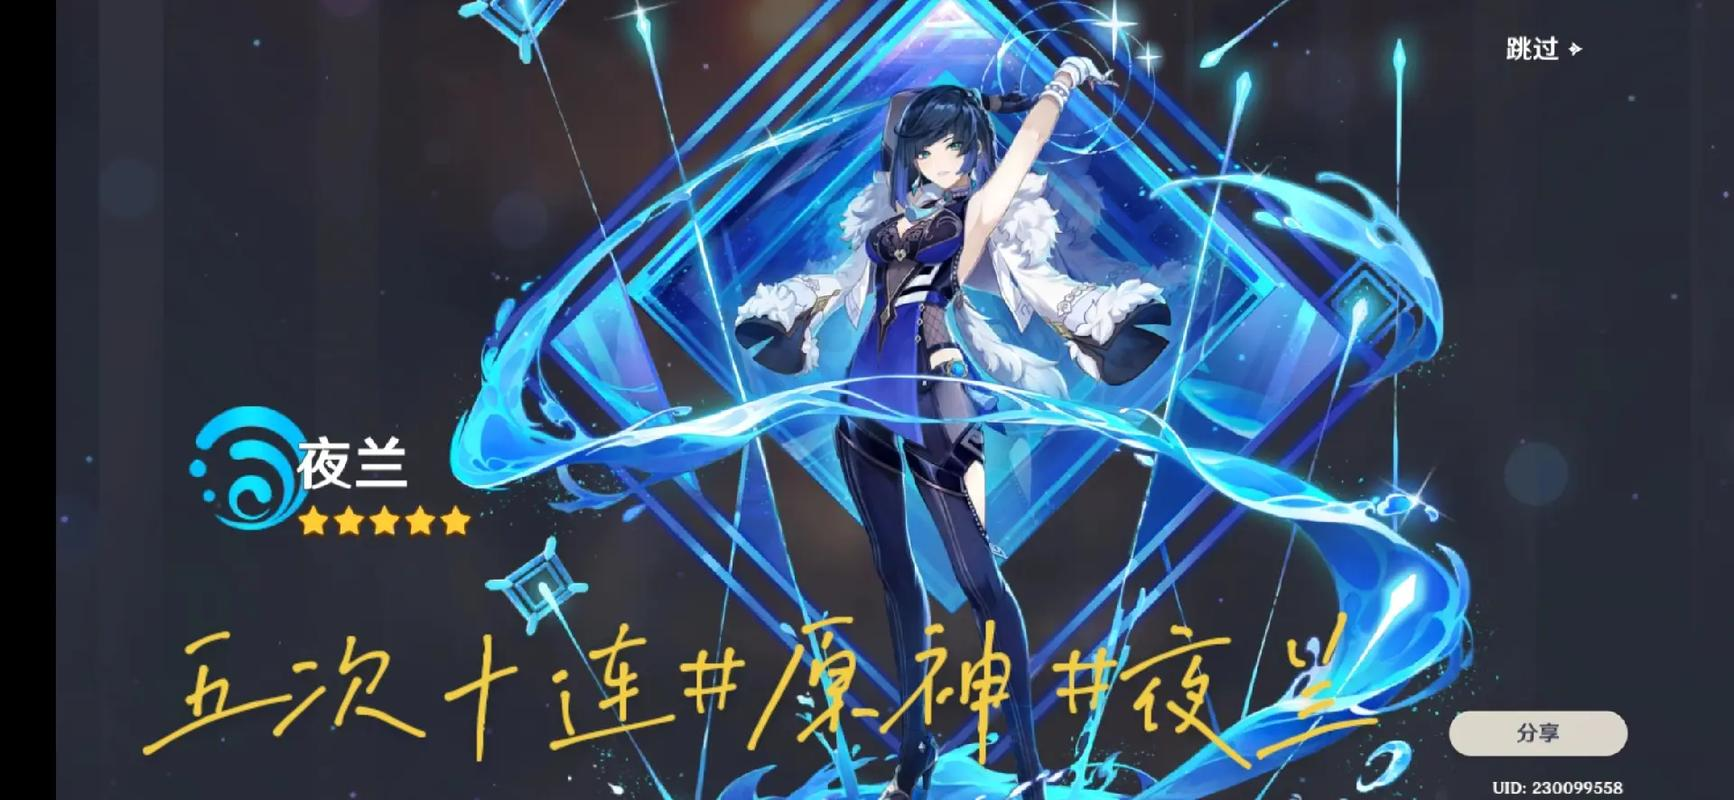夜兰: (824, 46, 1125, 799)
